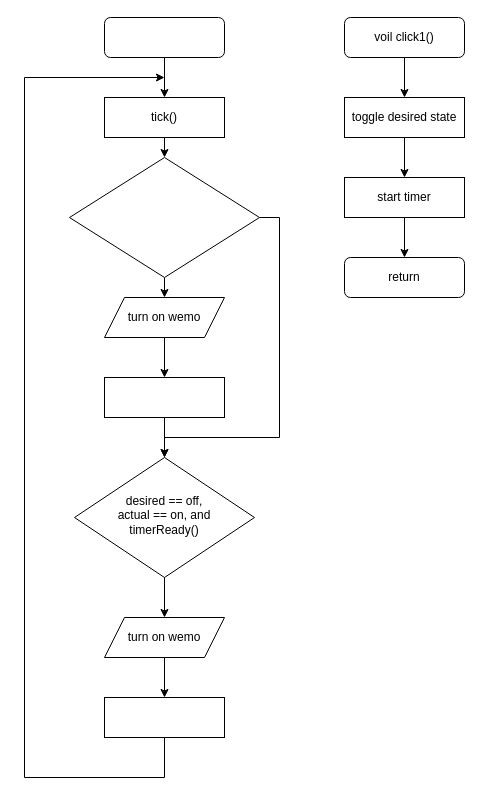
Some shapes in this 482 by 803 pixel diagram are drawn without their labels. The centre of each missing label's shape, as x and y in pixels:
actual = off: (164,717)
actual = on: (164,397)
desired == on and actual == off: (164,217)
void loop(): (164,37)
